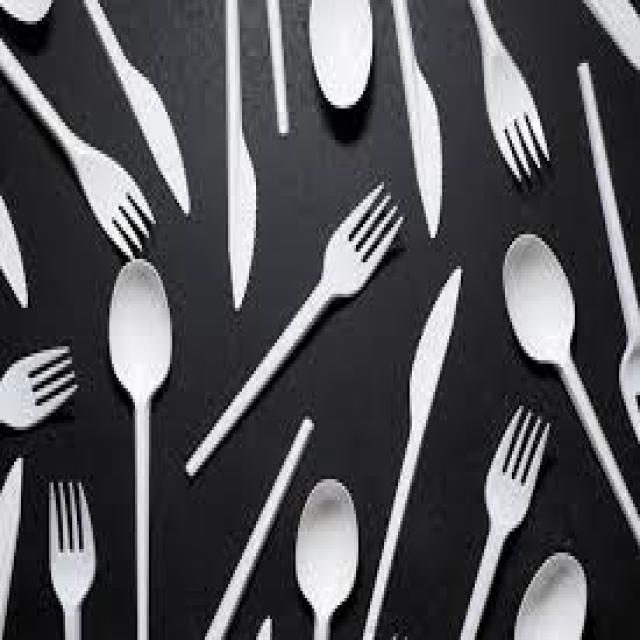plastic utensil: (186, 182, 401, 476), (503, 237, 640, 546), (363, 269, 461, 638), (0, 38, 155, 258), (109, 259, 173, 638), (84, 0, 189, 213), (207, 419, 308, 638), (460, 406, 549, 638), (472, 0, 549, 179), (393, 0, 443, 238), (295, 479, 359, 638), (227, 0, 256, 309), (49, 483, 96, 638), (0, 346, 77, 429), (313, 0, 370, 108)
